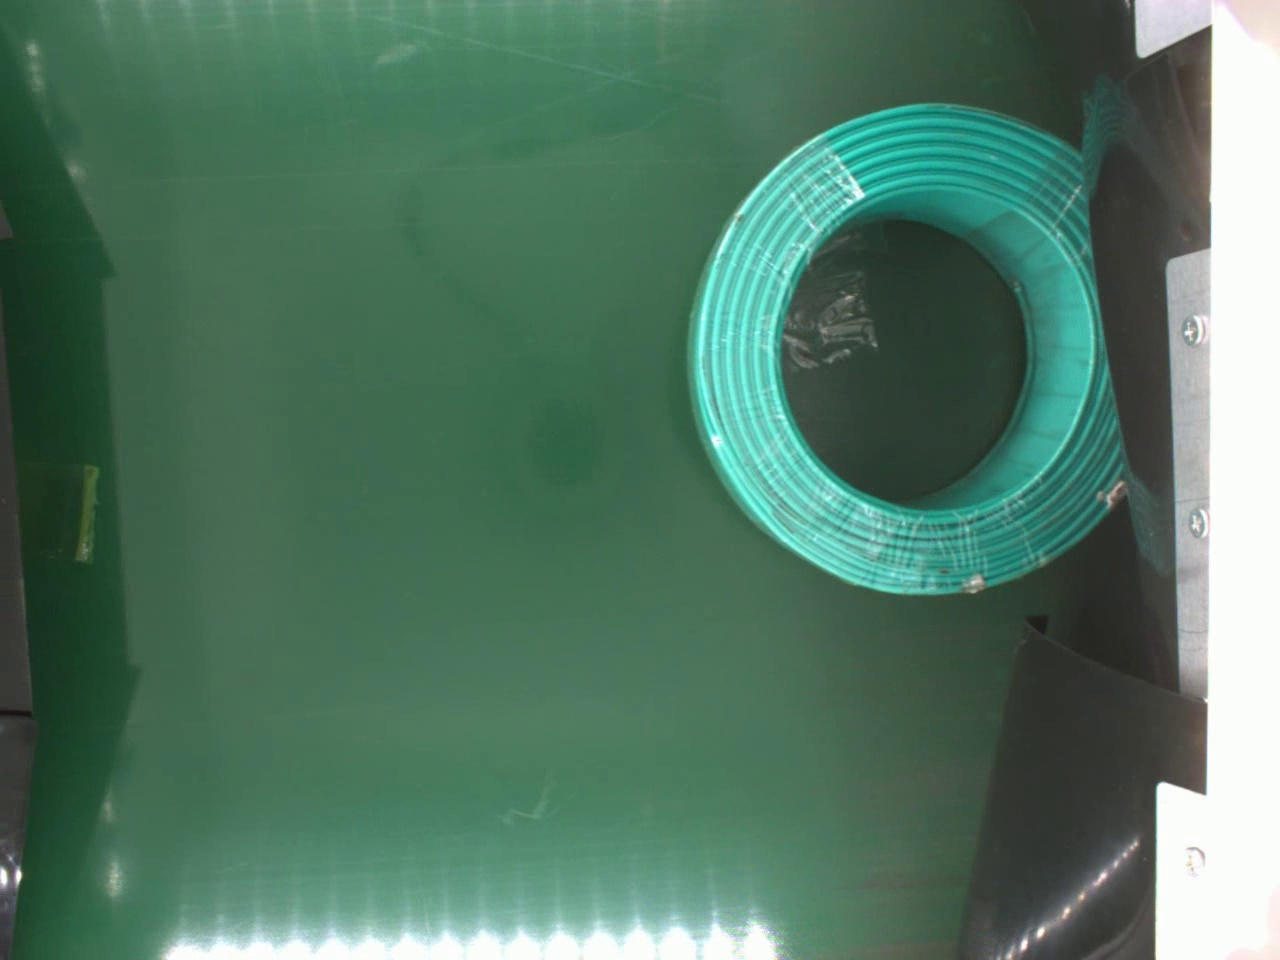green: (681, 99, 1125, 601)
